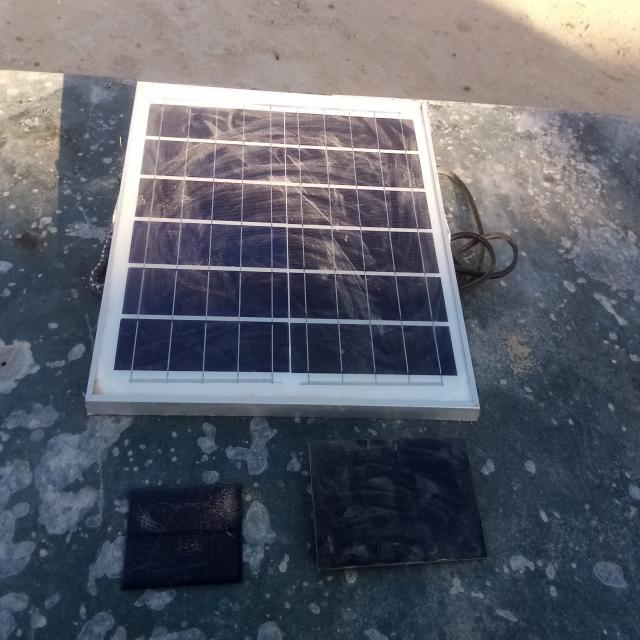faulty: (88, 80, 482, 416), (311, 443, 489, 570), (122, 480, 240, 585)
